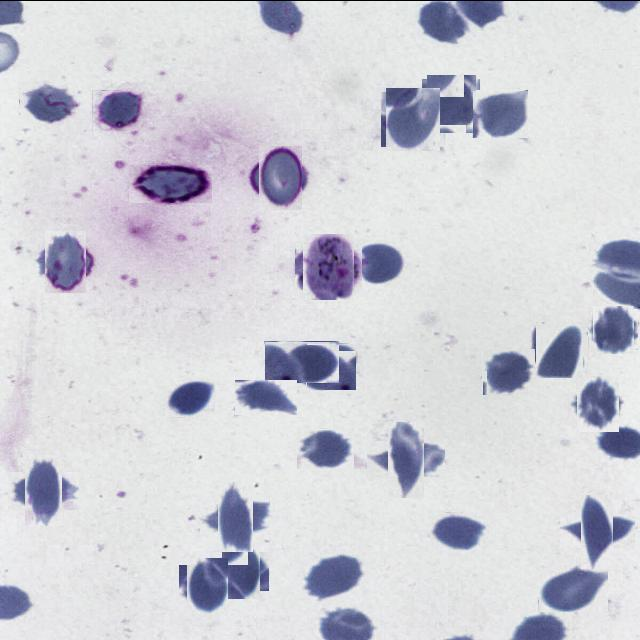red blood cell: (383, 89, 442, 148), (538, 564, 608, 611), (378, 429, 435, 486), (129, 164, 212, 202), (264, 340, 339, 382), (424, 76, 478, 130), (16, 463, 70, 517), (253, 150, 307, 204), (570, 504, 624, 558), (208, 490, 262, 542), (302, 555, 364, 599), (39, 235, 91, 287), (534, 322, 586, 374), (472, 89, 528, 137), (182, 560, 232, 610), (482, 347, 535, 394), (19, 81, 78, 123), (573, 379, 623, 428), (306, 342, 356, 389), (296, 428, 354, 468), (217, 546, 265, 594), (92, 89, 147, 130), (235, 379, 297, 414), (429, 511, 486, 549), (591, 306, 636, 351), (359, 241, 406, 283), (165, 380, 215, 416)
trophozoite: (299, 236, 358, 295)
